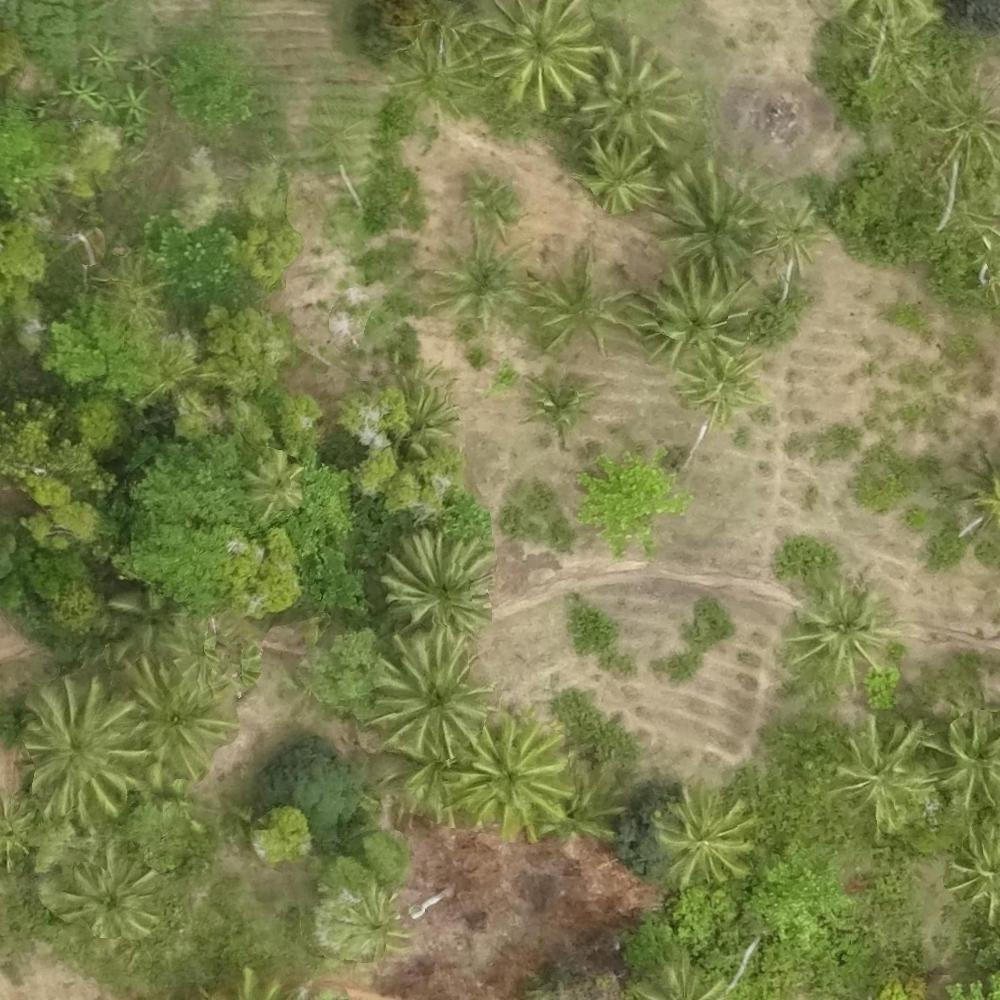Palm: (17, 684, 135, 812), (115, 656, 235, 776), (450, 721, 569, 835), (376, 638, 487, 754), (474, 2, 596, 105), (833, 717, 940, 828), (383, 532, 491, 638), (664, 161, 765, 266), (431, 224, 531, 330), (585, 43, 691, 143), (648, 264, 755, 358), (653, 784, 751, 886), (530, 255, 634, 351), (790, 584, 890, 683), (61, 845, 161, 942), (581, 140, 660, 213), (521, 373, 599, 443), (678, 355, 759, 421), (762, 199, 825, 262), (244, 452, 307, 511)
